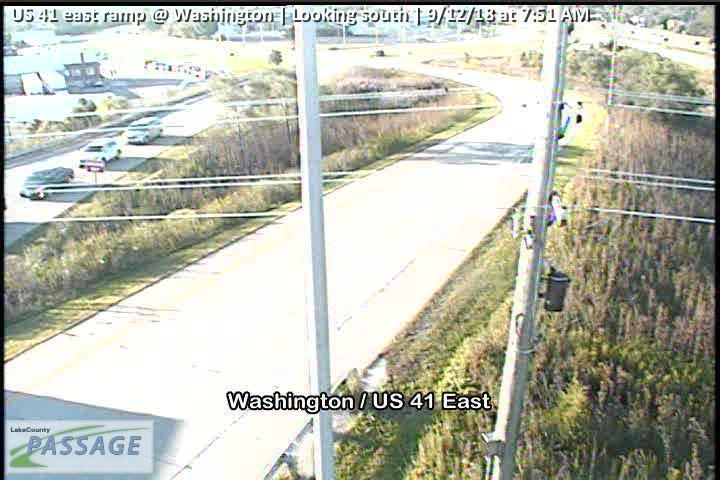SUV: (77, 138, 121, 167)
Sedan: (18, 165, 76, 200), (124, 116, 165, 145)
Truck: (40, 70, 69, 97), (20, 72, 43, 98)
